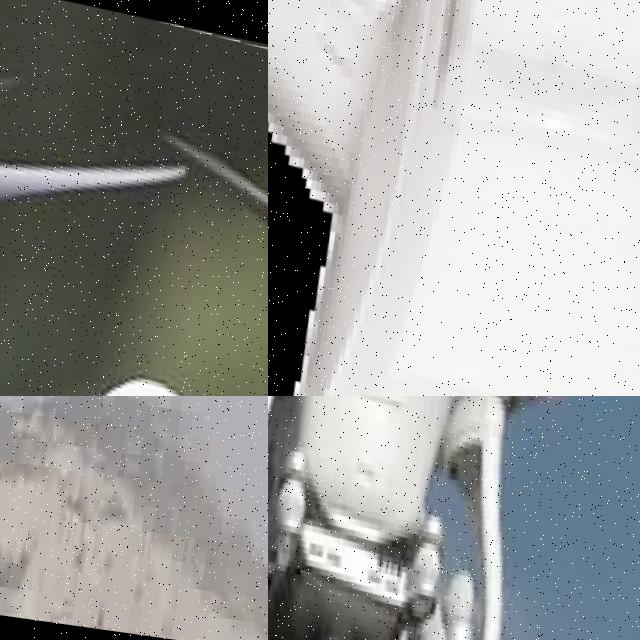drone: (268, 0, 640, 396), (0, 0, 268, 396), (268, 396, 640, 640)
